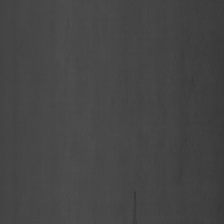water_spot: (128, 176, 148, 224)
